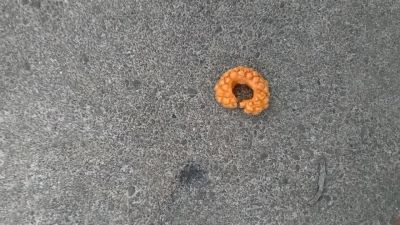eggs: (212, 63, 274, 118)
